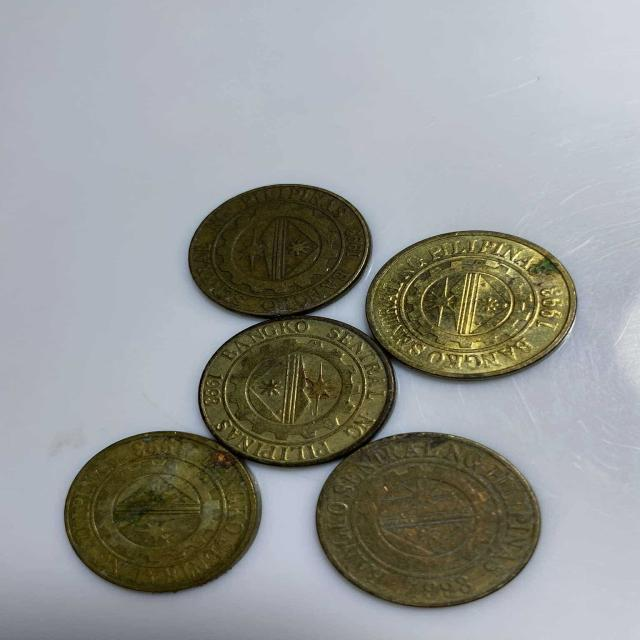25Cent_Old_Back: (316, 434, 542, 603), (65, 434, 253, 593), (369, 233, 569, 375), (203, 318, 390, 454), (185, 188, 366, 310)
